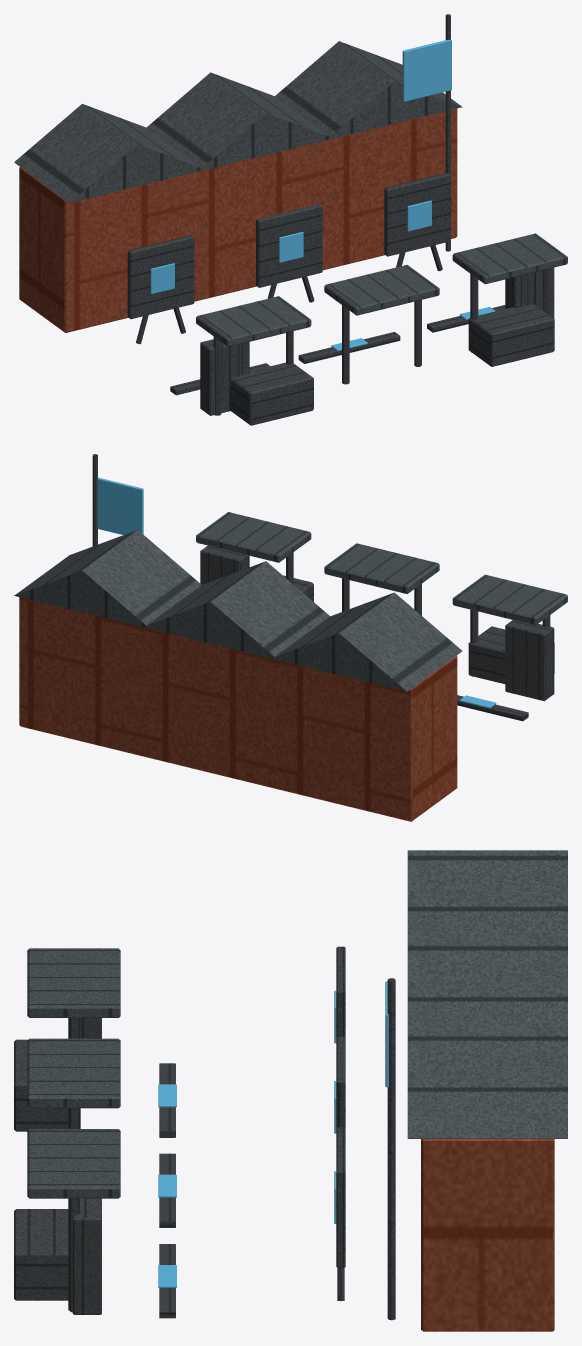
Rendered from edificio-b_000-e4-lod0-2lnY3u5F.glb.
The picture shows the model from 3 angles, top to bottom: view 1: azimuth 30°, elevation 25°; view 2: azimuth 150°, elevation 25°; view 3: azimuth 270°, elevation 25°; orthographic projection. The views are drawn at different scales.
Parts seen in each view (by area): view 1: envolvente_arqueria, team_color; view 2: envolvente_arqueria, team_color; view 3: envolvente_arqueria, team_color.
Boxes of the visible parts, x1,y1,x2,y2 form: envolvente_arqueria: (14,14,567,425); team_color: (150,39,495,351); envolvente_arqueria: (14,454,567,821); team_color: (97,477,496,708); envolvente_arqueria: (14,850,567,1331); team_color: (158,981,388,1287).
Size of the model in its own units: 49 by 28.09 by 41.5.
2 materials, 1 textured.
